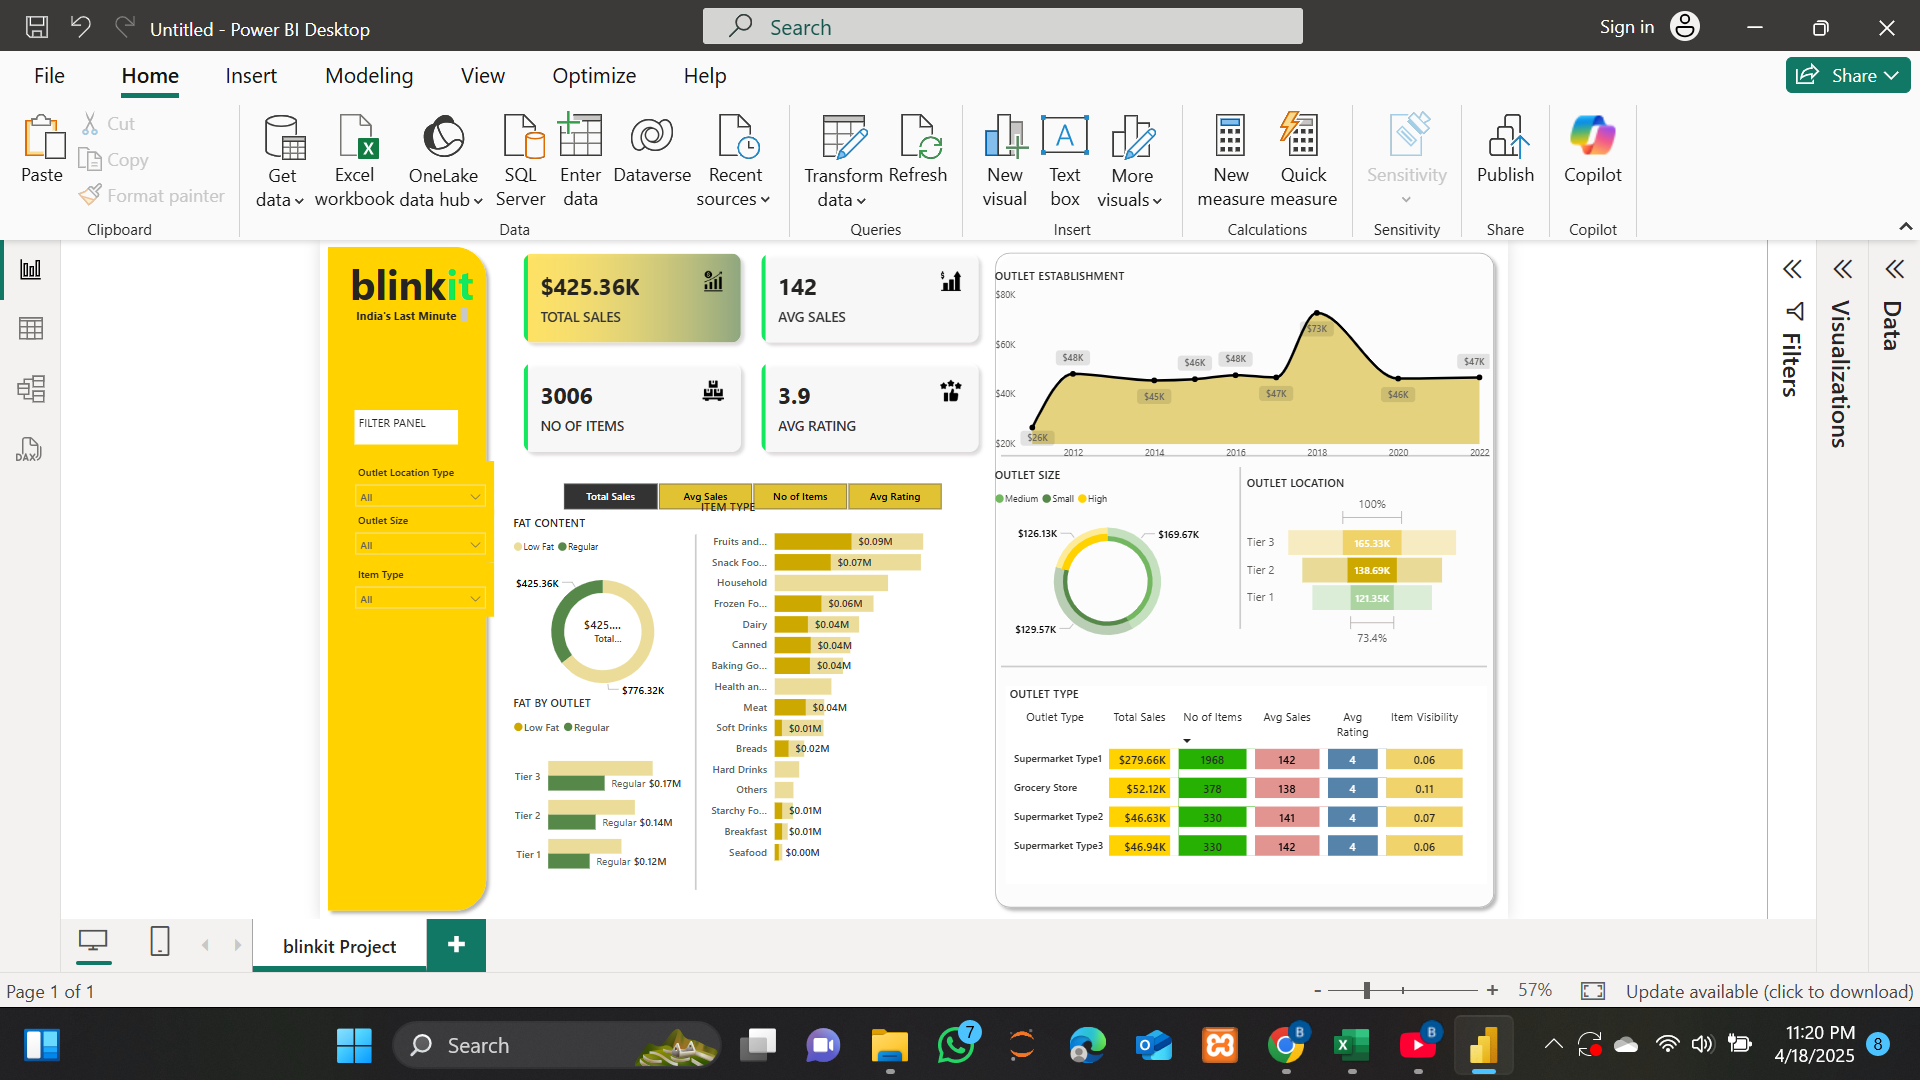

Layout of this report page (visuals, bound fields, positions):
{"tool":"powerbi","page":{"name":"blinkit Project","canvas":[1400,800],"ordinal":0},"visuals":[{"type":"shape","box":[0,0,205,800.6],"z":0},{"type":"textbox","box":[24.8,14.5,179.8,76.5],"z":1000},{"type":"textbox","box":[31,76.5,146.8,28.9],"z":2000},{"type":"cardVisual","fields":{"Data":["BlinkIT Grocery Data.Total Sales","BlinkIT Grocery Data.Avg Sales","BlinkIT Grocery Data.No of Items","BlinkIT Grocery Data.Avg Rating"]},"box":[223.5,0,570.2,269.4],"z":3000},{"type":"shape","box":[786.5,7.1,606.2,790],"z":4000},{"type":"donutChart","title":"FAT CONTENT","fields":{"Y":["BlinkIT Grocery Data.Total Sales"],"Category":["BlinkIT Grocery Data.Item Fat Content"]},"box":[222.7,325.2,220.9,229.8],"z":5000},{"type":"slicer","fields":{"Values":["Metrics.Metrics"]},"box":[261.6,281,494.9,44.2],"z":6000},{"type":"cardVisual","fields":{"Data":["BlinkIT Grocery Data.Total Sales"]},"box":[293.4,427.7,83.1,61.9],"z":7000},{"type":"clusteredBarChart","title":"FAT BY OUTLET","fields":{"Y":["BlinkIT Grocery Data.Total Sales"],"Category":["BlinkIT Grocery Data.Outlet Location Type"],"Series":["BlinkIT Grocery Data.Item Fat Content"]},"box":[222.7,537.3,219.2,229.8],"z":8000},{"type":"shape","box":[802.4,242.1,576.2,26.5],"z":9000},{"type":"shape","box":[422.4,348.2,40.6,418.9],"z":10000},{"type":"clusteredBarChart","title":"ITEM TYPE","fields":{"Y":["BlinkIT Grocery Data.Total Sales"],"Category":["BlinkIT Grocery Data.Item Type"]},"box":[443.6,305.8,314.6,441.8],"z":11000},{"type":"lineChart","title":" OUTLET ESTABLISHMENT","fields":{"Category":["BlinkIT Grocery Data.Outlet Establishment Year"],"Y":["BlinkIT Grocery Data.Total Sales"]},"box":[790,33.6,593.8,235.1],"z":12000},{"type":"donutChart","title":"OUTLET SIZE","fields":{"Y":["BlinkIT Grocery Data.Total Sales"],"Category":["BlinkIT Grocery Data.Outlet Size"],"Series":["BlinkIT Grocery Data.Outlet Size"]},"box":[790,268.6,275.7,224.5],"z":13000},{"type":"shape","box":[1063.9,268.6,40.6,190.9],"z":14000},{"type":"funnel","title":"OUTLET LOCATION","fields":{"Y":["Sum(BlinkIT Grocery Data.Sales)"],"Category":["BlinkIT Grocery Data.Outlet Location Type"]},"box":[1086.9,277.5,261.6,206.8],"z":15000},{"type":"shape","box":[802.4,493.1,572.6,21.2],"z":16000},{"type":"pivotTable","title":"OUTLET TYPE","fields":{"Rows":["BlinkIT Grocery Data.Outlet Type"],"Values":["BlinkIT Grocery Data.Total Sales","BlinkIT Grocery Data.No of Items","BlinkIT Grocery Data.Avg Sales","BlinkIT Grocery Data.Avg Rating","Avg(BlinkIT Grocery Data.Item Visibility)"]},"box":[807.7,526.7,567.3,233.3],"z":17000},{"type":"slicer","fields":{"Values":["BlinkIT Grocery Data.Outlet Location Type"]},"box":[31.8,261.6,173.2,63.6],"z":18000},{"type":"slicer","fields":{"Values":["BlinkIT Grocery Data.Outlet Size"]},"box":[31.8,318.1,173.2,63.6],"z":19000},{"type":"slicer","fields":{"Values":["BlinkIT Grocery Data.Item Type"]},"box":[31.8,381.7,173.2,63.6],"z":20000},{"type":"textbox","box":[40.6,201.5,121.9,40.6],"z":20001}]}

Visuals, with their boxes on the page's 1400x800 design canvas (x1, y1, x2, y2). These are canvas units, not pixel positions in the 1920x1080 screenshot, which may show the page scaled, cropped or inside an application window:
shape: [0,0,205,801]
textbox: [25,14,205,91]
textbox: [31,76,178,105]
cardVisual - BlinkIT Grocery Data.Total Sales x BlinkIT Grocery Data.Avg Sales: [224,0,794,269]
shape: [786,7,1393,797]
"FAT CONTENT" donutChart: [223,325,444,555]
slicer - Metrics.Metrics: [262,281,756,325]
cardVisual - BlinkIT Grocery Data.Total Sales: [293,428,376,490]
"FAT BY OUTLET" clusteredBarChart: [223,537,442,767]
shape: [802,242,1379,269]
shape: [422,348,463,767]
"ITEM TYPE" clusteredBarChart: [444,306,758,748]
" OUTLET ESTABLISHMENT" lineChart: [790,34,1384,269]
"OUTLET SIZE" donutChart: [790,269,1066,493]
shape: [1064,269,1104,460]
"OUTLET LOCATION" funnel: [1087,278,1348,484]
shape: [802,493,1375,514]
"OUTLET TYPE" pivotTable: [808,527,1375,760]
slicer - BlinkIT Grocery Data.Outlet Location Type: [32,262,205,325]
slicer - BlinkIT Grocery Data.Outlet Size: [32,318,205,382]
slicer - BlinkIT Grocery Data.Item Type: [32,382,205,445]
textbox: [41,202,162,242]
